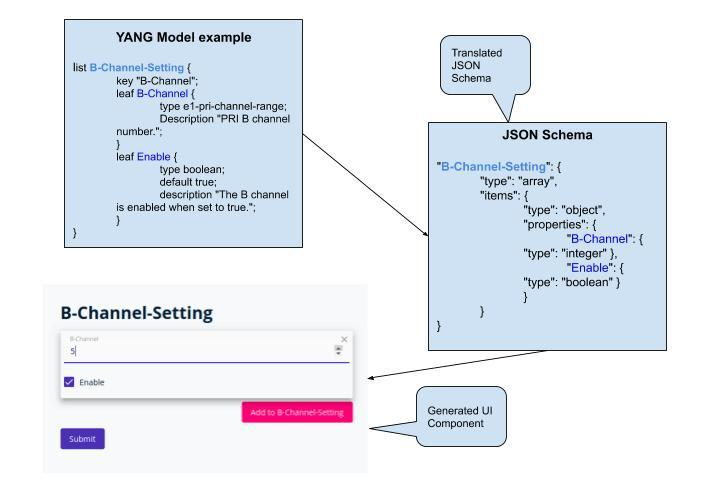button: (241, 401, 354, 425), (243, 402, 355, 424), (62, 428, 106, 451)
checkbox: (64, 377, 77, 388)
label: (61, 304, 217, 326), (80, 378, 107, 387)
